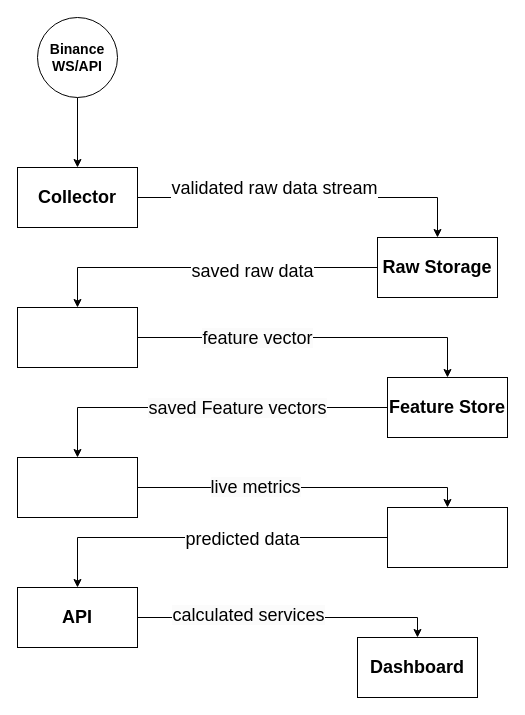
Some shapes in this 525 by 715 pixel diagram are drawn without their labels. The centre of each missing label's shape, as x and y in pixels:
"Feature Engine" goes at (x=77, y=337).
"ML Pipeline" goes at (x=77, y=487).
"Prediction Service" goes at (x=447, y=537).
